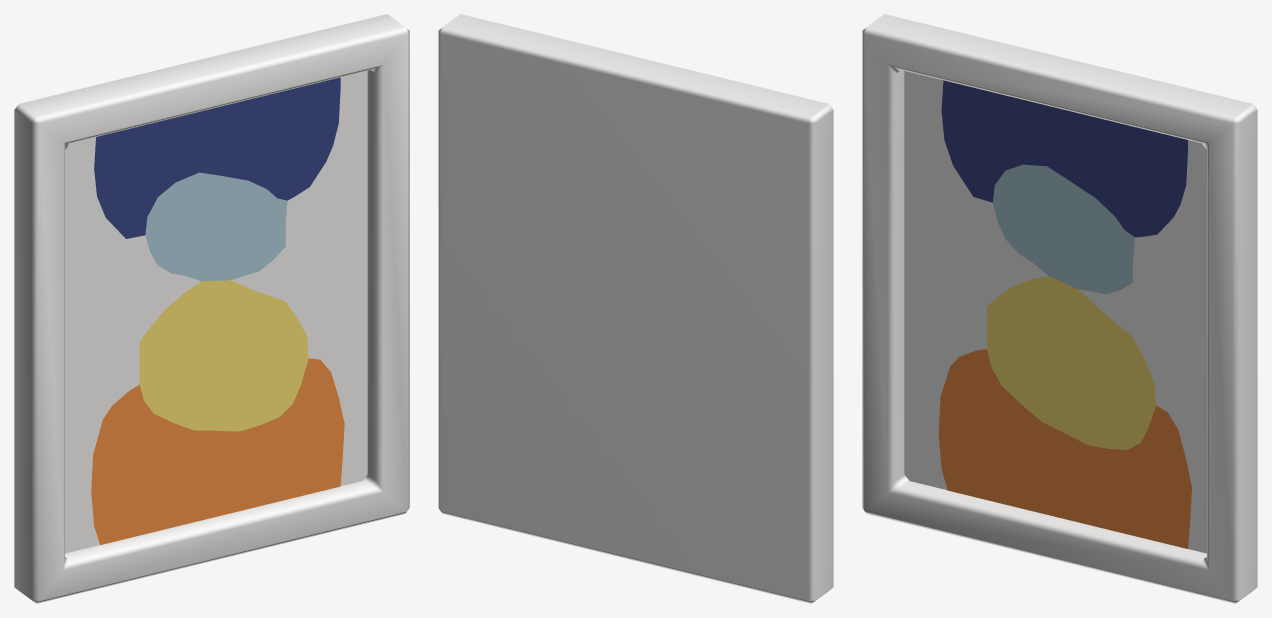
Rendered from Frame_2.glb.
The picture shows the model from 3 angles, left to right: view 1: azimuth 30°, elevation 25°; view 2: azimuth 150°, elevation 25°; view 3: azimuth 330°, elevation 25°; orthographic projection.
Parts seen in each view (by area): view 1: Painting_19; view 2: Painting_19; view 3: Painting_19.
Boxes of the visible parts, x1=… form: Painting_19: x1=14, y1=14, x2=409, y2=603; Painting_19: x1=438, y1=14, x2=833, y2=603; Painting_19: x1=862, y1=14, x2=1257, y2=603.
Size of the model in its own units: 0.9813 by 1.21 by 0.1036.
1 material, 1 textured.
